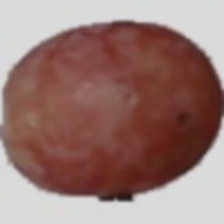grapes: (52, 39, 192, 176)
